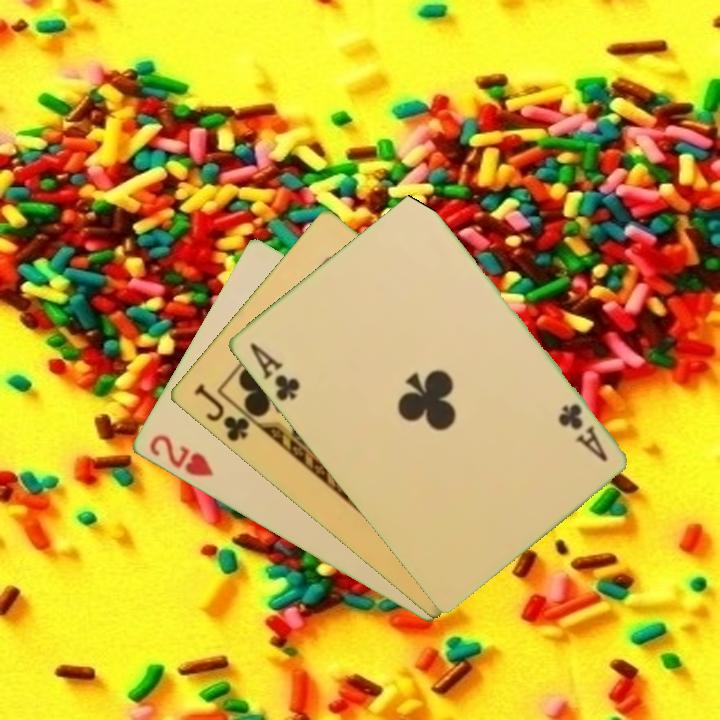2h: (145, 431, 216, 480)
Ac: (245, 339, 303, 404), (553, 399, 610, 465)
Jc: (190, 380, 261, 445)
